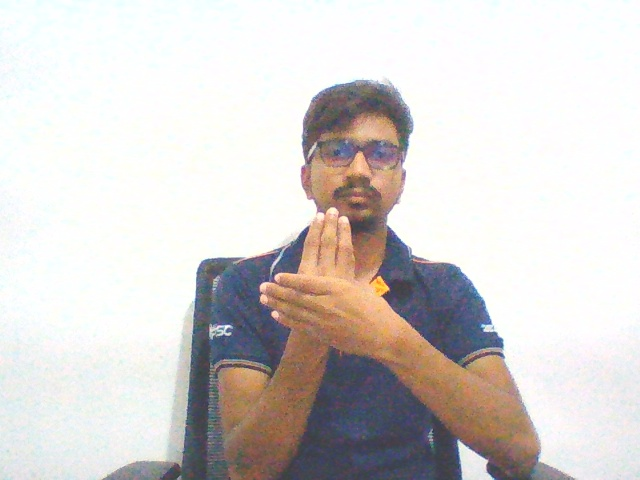tree: (251, 202, 408, 370)
